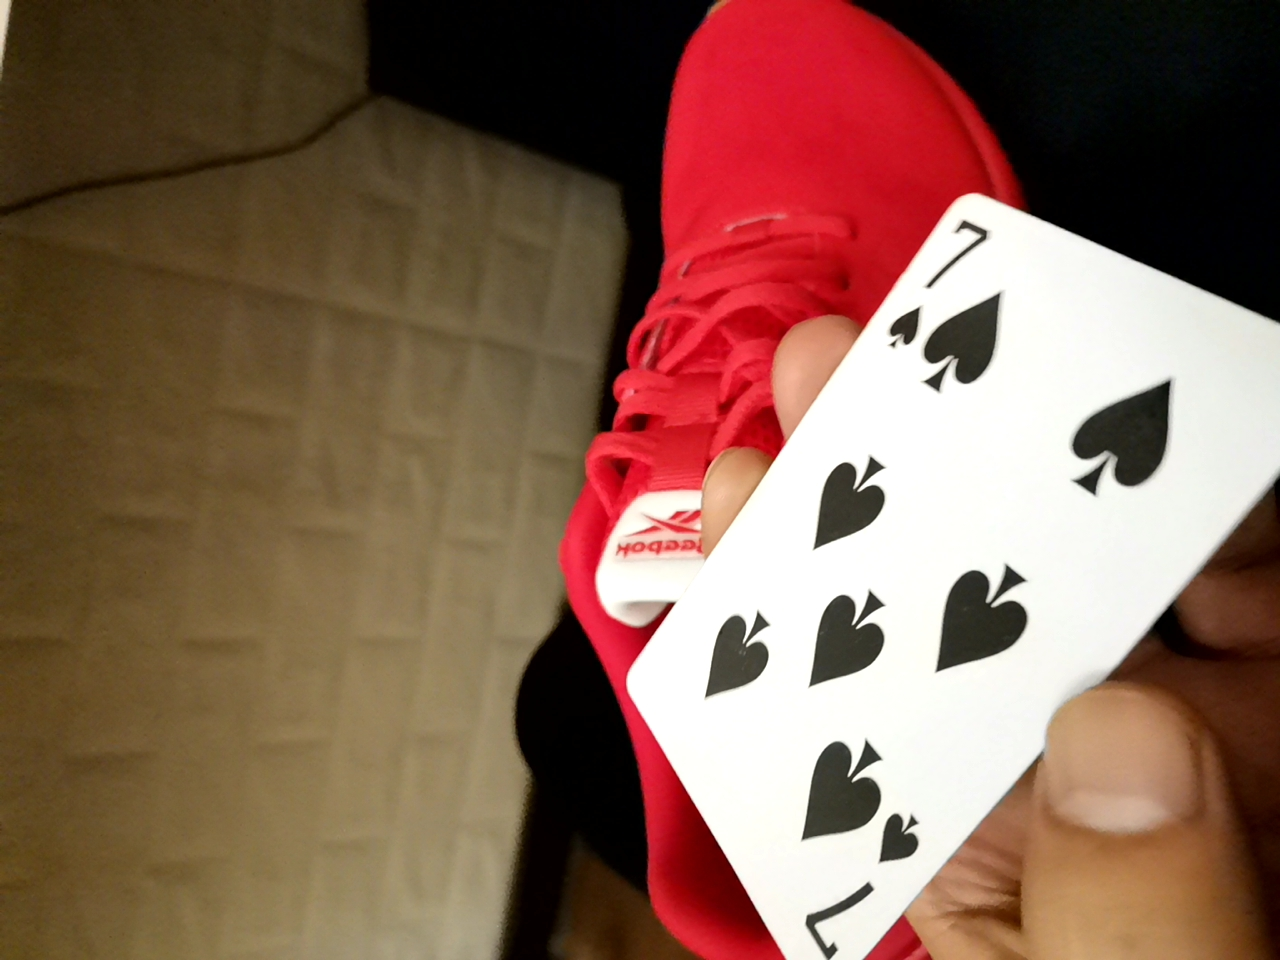ht 7: (578, 197, 1266, 953)
